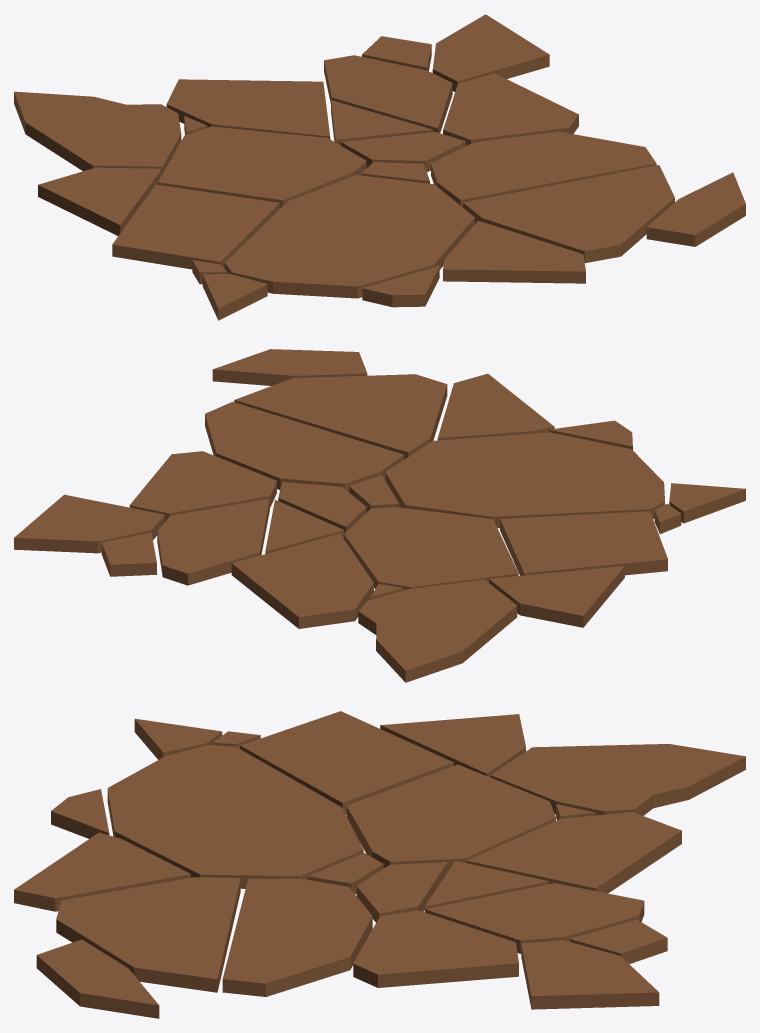
Rendered from ground-cracked_dirt.glb.
3 views of the same model, one above another, from view 1: azimuth 30°, elevation 25°; view 2: azimuth 150°, elevation 25°; view 3: azimuth 270°, elevation 25° (orthographic). The views are drawn at different scales.
Visible parts, largest first — view 1: ground-cracked_dirt; view 2: ground-cracked_dirt; view 3: ground-cracked_dirt.
Boxes of the visible parts, box(x1,y1,x2,y2) form: ground-cracked_dirt: box(14, 14, 745, 320); ground-cracked_dirt: box(14, 349, 745, 682); ground-cracked_dirt: box(14, 711, 745, 1018).
Size of the model in its own units: 4.56 by 0.0969 by 4.79.
Materials: 1 (1 with a texture image).
